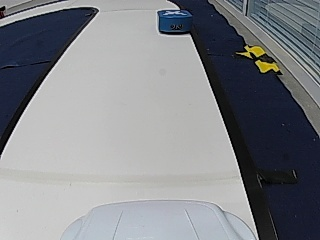prop: (158, 10, 192, 35)
